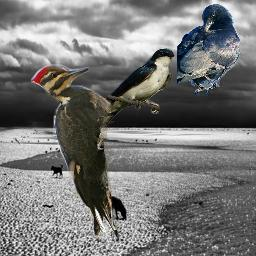Crow: (177, 4, 240, 96)
Swallow: (84, 48, 175, 127)
Woodpecker: (31, 64, 121, 243)
